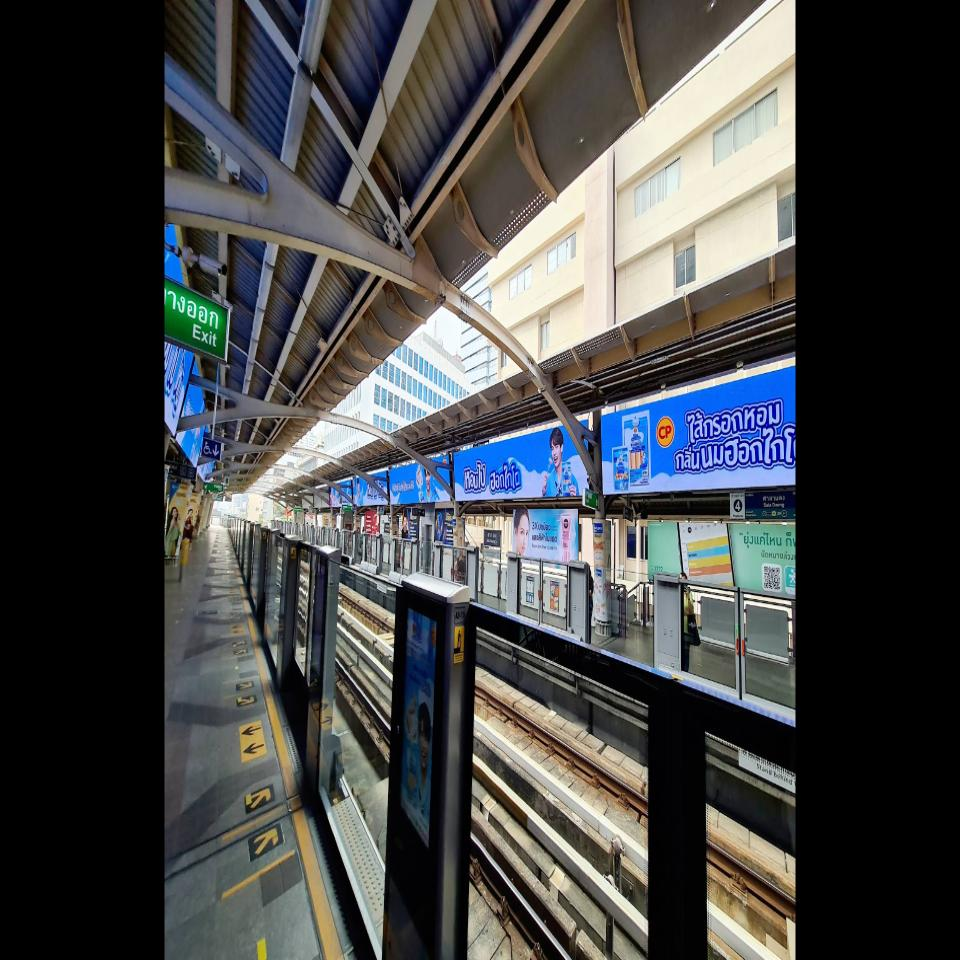Sala Daeng: (762, 489, 787, 521), (484, 530, 502, 547)
